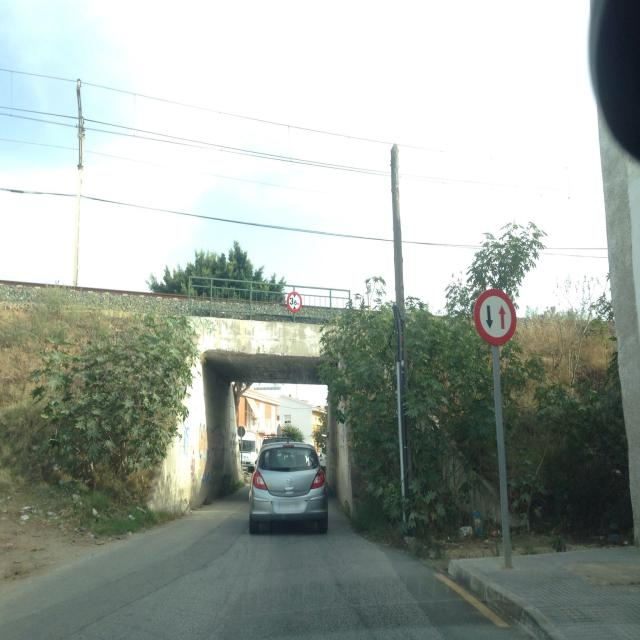car: (248, 441, 329, 534)
